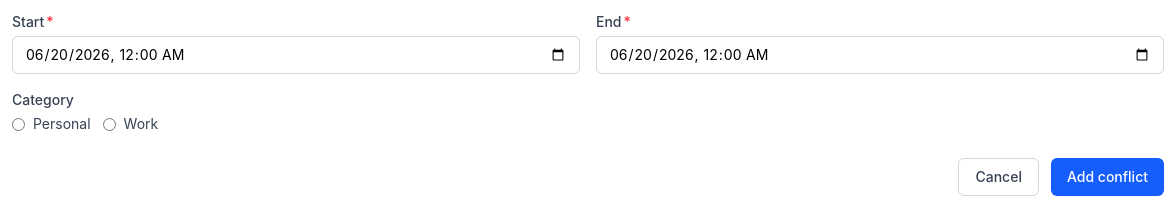
Test: ConflictForm — time validation › auto-bumps end time to match start time when start time moves later than end time
Replace the text in the field below "Start" with "2026-06-20T19:00" at coordinates (296, 55), box 12,36 -> 580,74
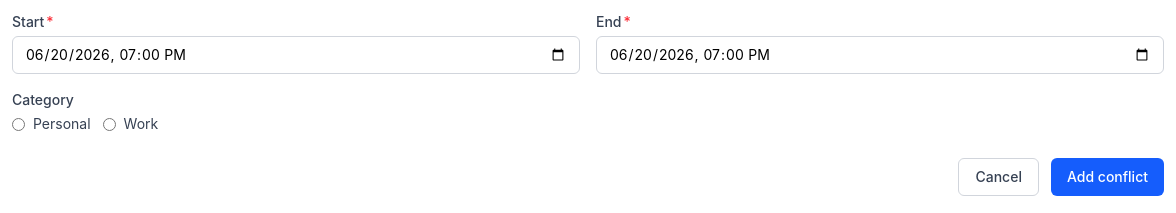
Replace the text in the field below "End" with "2026-06-20T21:00" at coordinates (880, 55), box 596,36 -> 1164,74
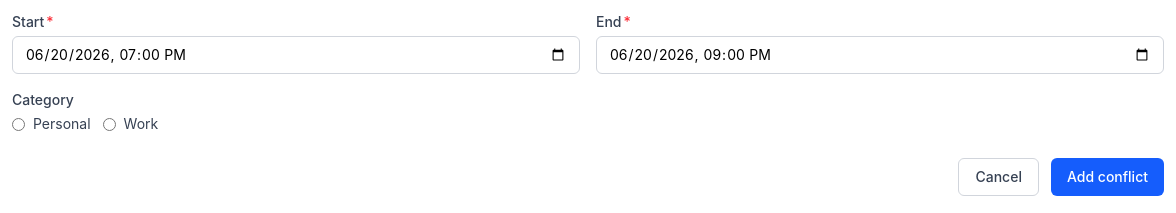
Replace the text in the field below "Start" with "2026-06-20T22:00" at coordinates (296, 55), box 12,36 -> 580,74
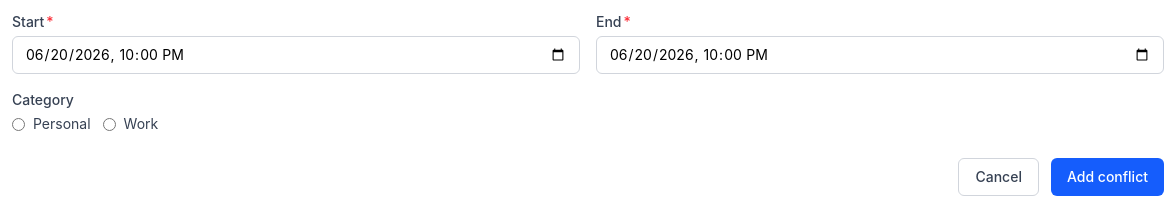
Expected: the field below "End" holds "2026-06-20T22:00", 596,36 -> 1164,74
